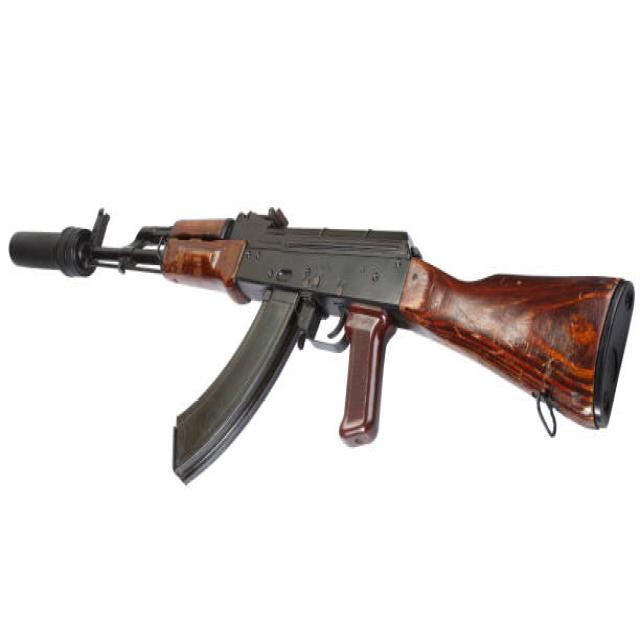rifle: (4, 198, 640, 490)
